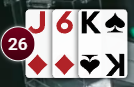6: (52, 9, 78, 36)
j: (26, 9, 50, 36)
k: (78, 8, 102, 36)
